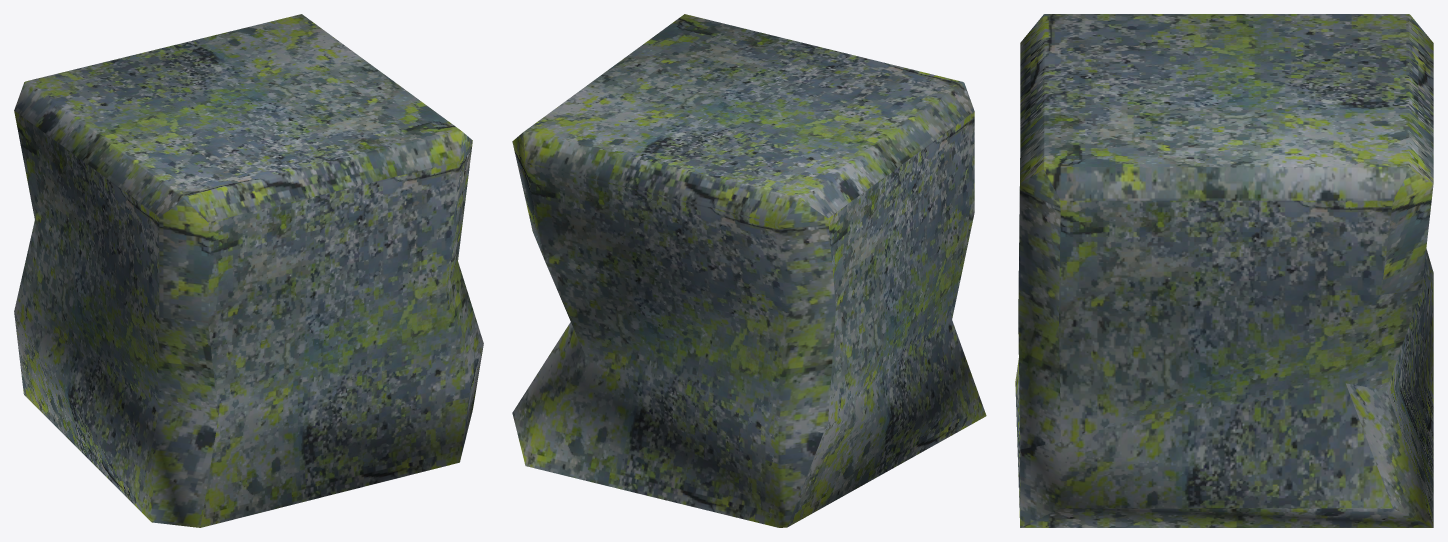
The model's file is INST_MIRK_PUSHBLOCK.obj.
The picture shows the model from 3 angles, left to right: view 1: azimuth 30°, elevation 25°; view 2: azimuth 150°, elevation 25°; view 3: azimuth 270°, elevation 25°; orthographic projection. The views are drawn at different scales.
Parts seen in each view (by area): view 1: shable Block 05; view 2: shable Block 05; view 3: shable Block 05.
Boxes of the visible parts, bbox=[...] form: shable Block 05: bbox=[14, 14, 483, 527]; shable Block 05: bbox=[512, 14, 986, 527]; shable Block 05: bbox=[1015, 14, 1433, 527].
Bounding box in the file's own units: 107 × 97.89 × 101.
